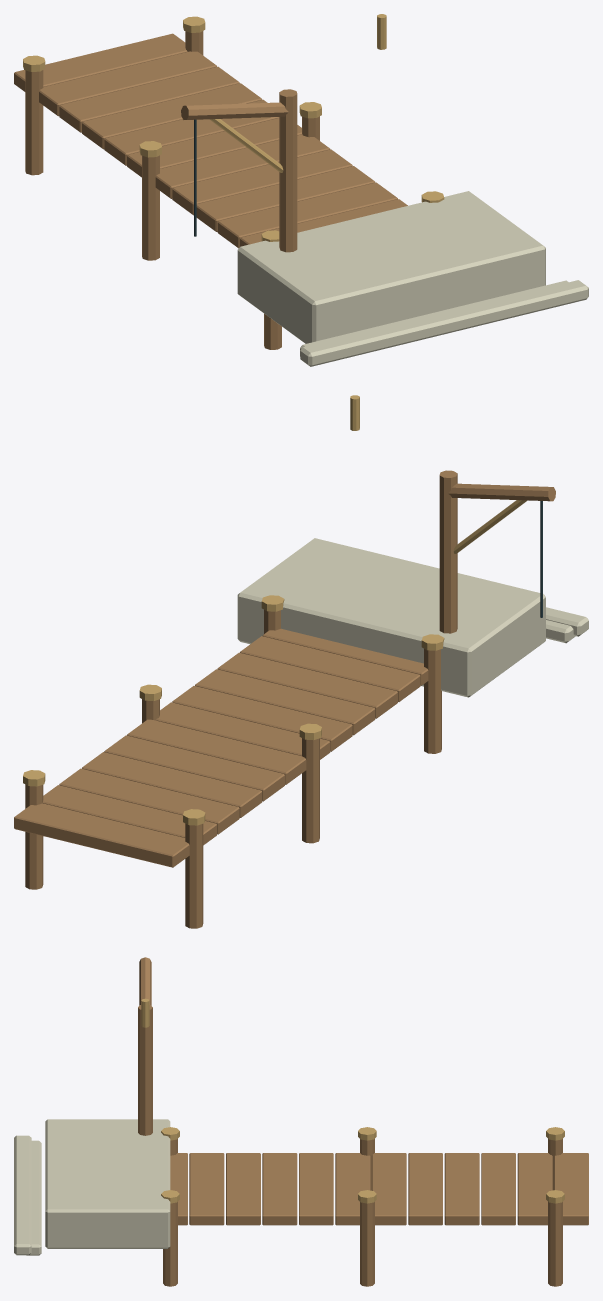
File: level_18.glb
3 renders of one model, top to bottom at view 1: azimuth 30°, elevation 25°; view 2: azimuth 150°, elevation 25°; view 3: azimuth 270°, elevation 25°, orthographic. The views are drawn at different scales.
Visible parts, largest first — view 1: dock — level 18; view 2: dock — level 18; view 3: dock — level 18.
Boxes of the visible parts, x1,y1,x2,y2 form: dock — level 18: (14,14,588,366); dock — level 18: (14,395,588,928); dock — level 18: (14,957,588,1286).
Bounding box in the file's own units: 4.84 × 4.53 × 9.19.
